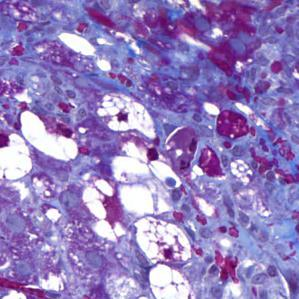ballooning: (92, 88, 163, 147), (127, 213, 196, 266), (78, 175, 129, 245)
